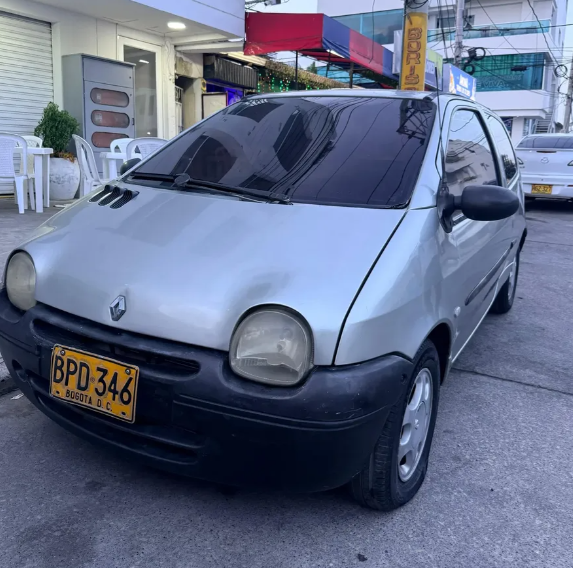placa: (53, 342, 137, 423)
